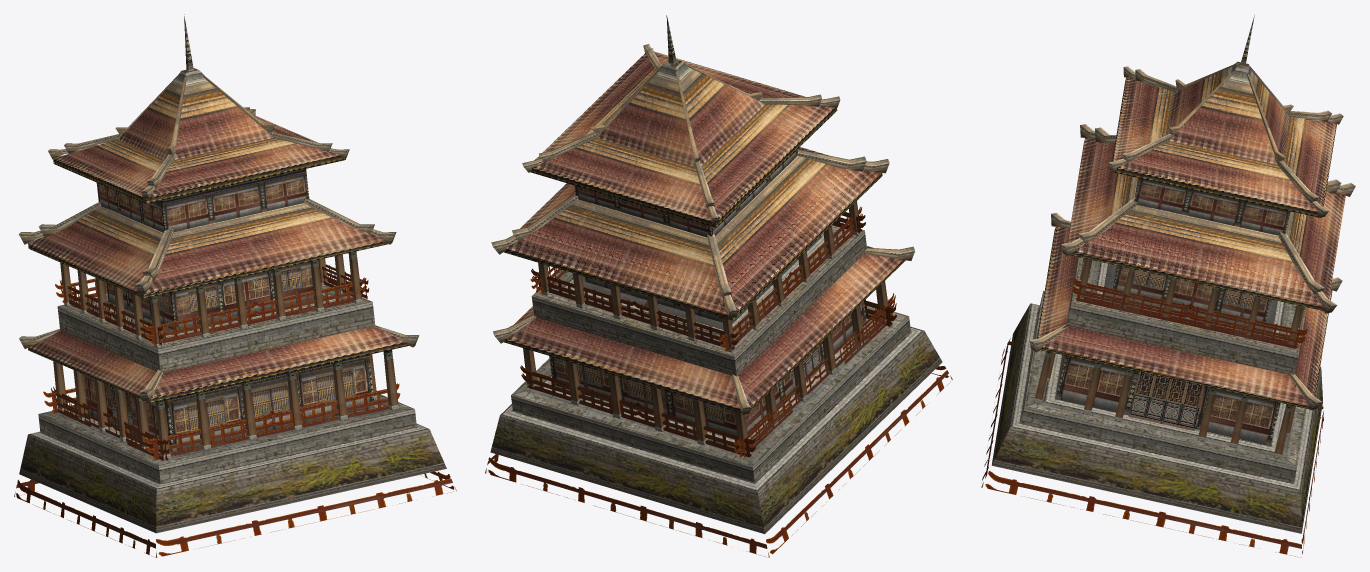
The model's file is japan_waterbuilding.fbx.
The picture shows the model from 3 angles, left to right: view 1: azimuth 30°, elevation 25°; view 2: azimuth 150°, elevation 25°; view 3: azimuth 270°, elevation 25°; orthographic projection. The views are drawn at different scales.
Parts seen in each view (by area): view 1: Object01; view 2: Object01; view 3: Object01.
Part boxes in pixels (<box>): Object01: <box>14,14,456,557</box>; Object01: <box>485,15,952,557</box>; Object01: <box>981,15,1355,557</box>.
Size of the model in its own units: 13.84 by 14.6 by 20.33.
1 material, 1 textured.
